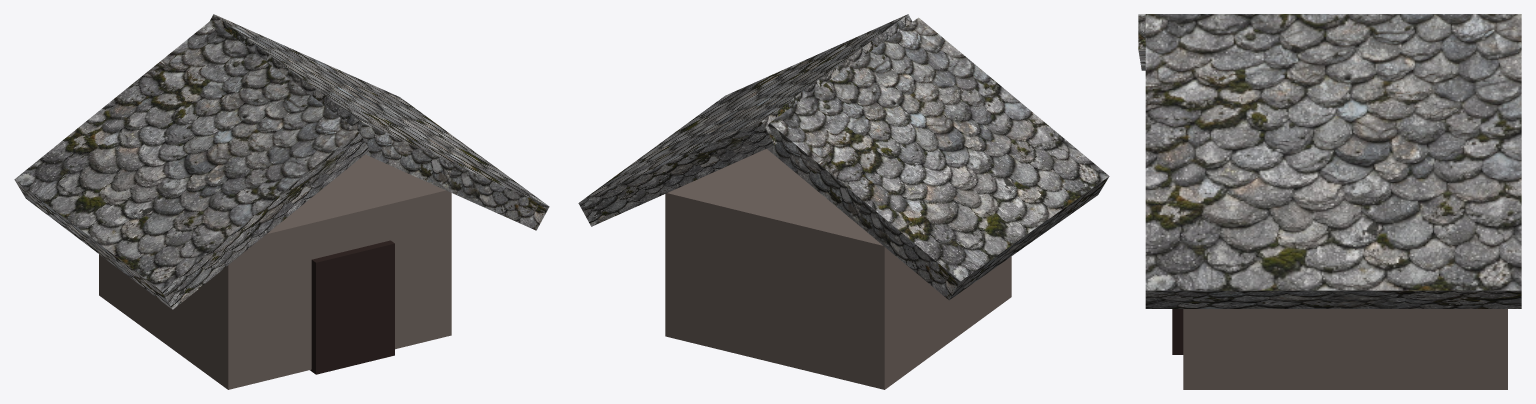
Rendered from hut.glb.
3 views of the same model, side by side, from view 1: azimuth 30°, elevation 25°; view 2: azimuth 150°, elevation 25°; view 3: azimuth 270°, elevation 25° (orthographic). The views are drawn at different scales.
Parts seen in each view (by area): view 1: _cs_roof, Cube, Cube.003; view 2: _cs_roof, Cube; view 3: _cs_roof, Cube, Cube.003.
Part boxes in pixels (<box>): _cs_roof: <box>14,14,549,309</box>; Cube: <box>99,154,451,389</box>; Cube.003: <box>310,240,394,374</box>; _cs_roof: <box>578,14,1109,300</box>; Cube: <box>665,149,1011,389</box>; _cs_roof: <box>1138,14,1521,308</box>; Cube: <box>1183,309,1507,389</box>; Cube.003: <box>1172,309,1183,354</box>.
Bounding box in the file's own units: 3.49 × 2.14 × 2.36.
3 materials, 1 textured.
